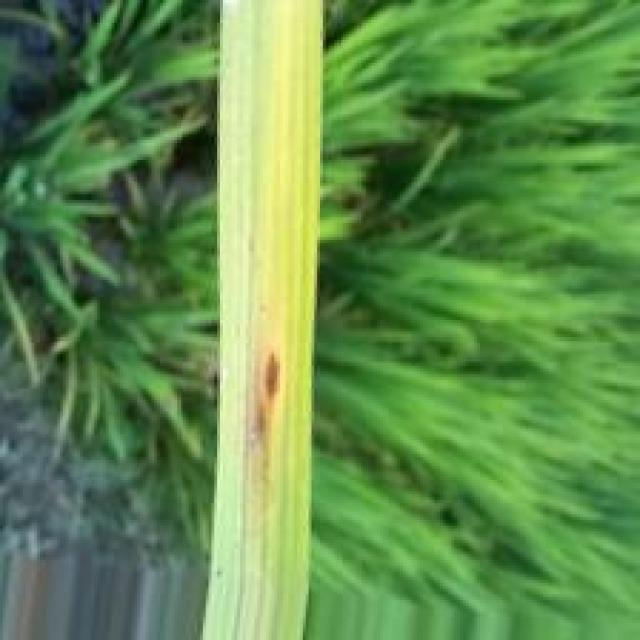Brown_Spot: (243, 338, 287, 459)
